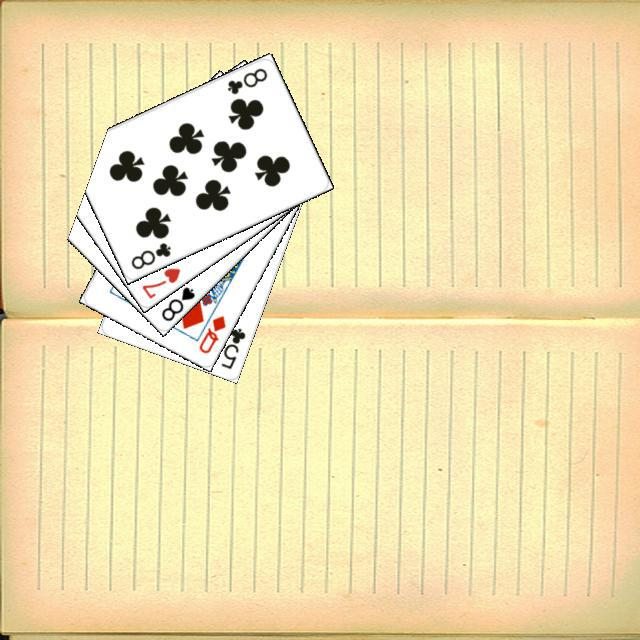5c: (216, 323, 247, 371)
7h: (137, 263, 182, 301)
8c: (222, 63, 269, 96), (126, 238, 172, 271)
8s: (156, 282, 197, 323)
Qd: (194, 311, 227, 355)
